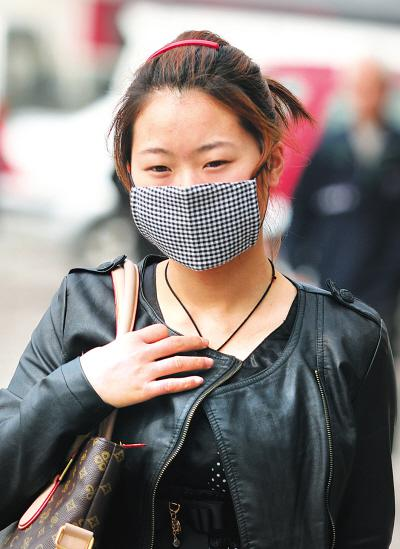OK: (130, 142, 259, 271)
